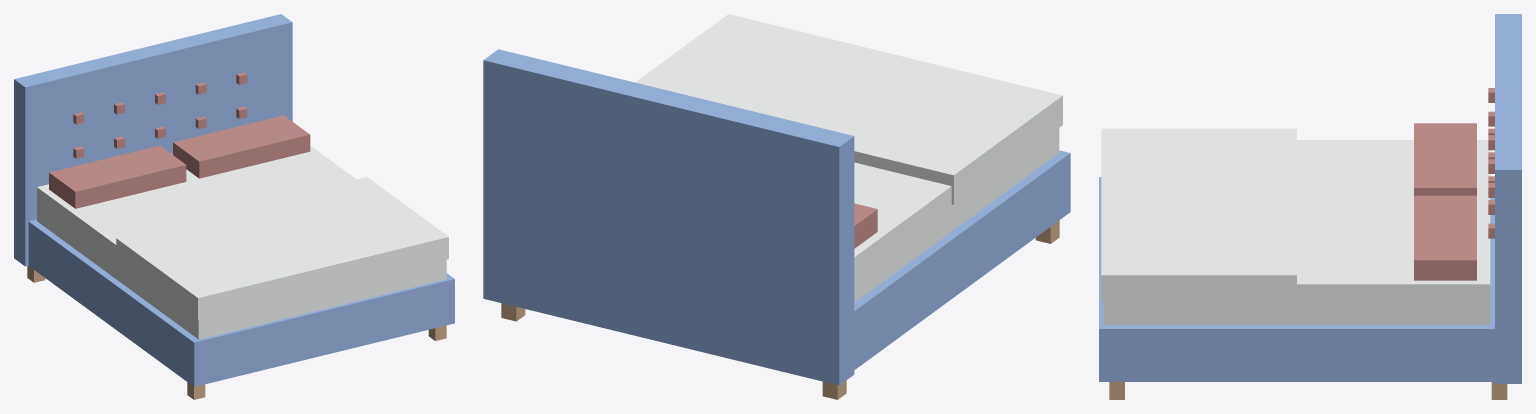
Rendered from bedQueenUpholstered.glb.
3 views of the same model, side by side, from view 1: azimuth 30°, elevation 25°; view 2: azimuth 150°, elevation 25°; view 3: azimuth 270°, elevation 25° (orthographic). The views are drawn at different scales.
Parts seen in each view (by area): view 1: bedQueenUpholstered; view 2: bedQueenUpholstered; view 3: bedQueenUpholstered.
Boxes of the visible parts, bbox=[...] form: bedQueenUpholstered: bbox=[14, 14, 454, 399]; bedQueenUpholstered: bbox=[483, 14, 1070, 399]; bedQueenUpholstered: bbox=[1099, 14, 1521, 399].
Size of the model in its own units: 0.82 by 0.575 by 0.94.
